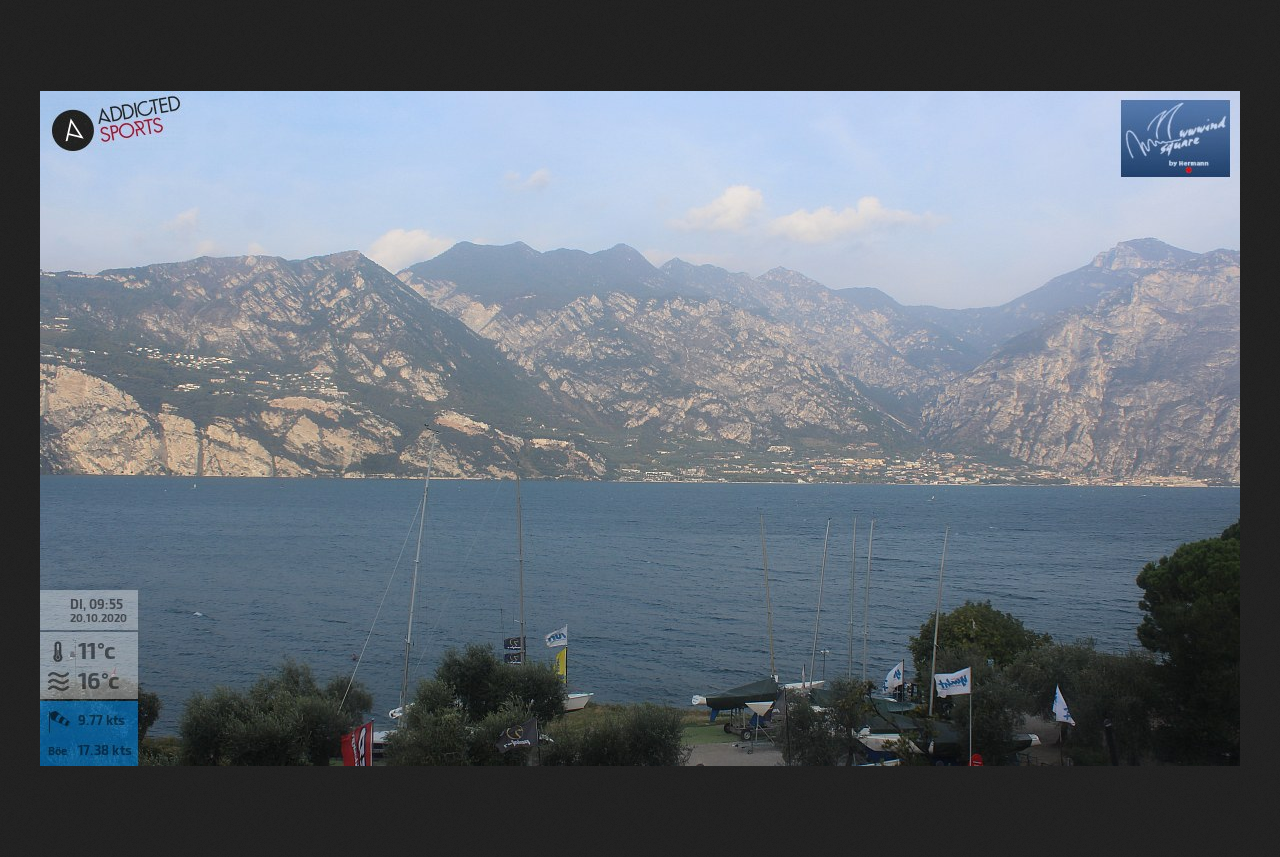maybe: (878, 654, 910, 696)
no: (1048, 681, 1076, 733)
yes: (931, 658, 979, 704), (542, 620, 571, 648), (500, 631, 525, 653), (500, 648, 523, 669)
